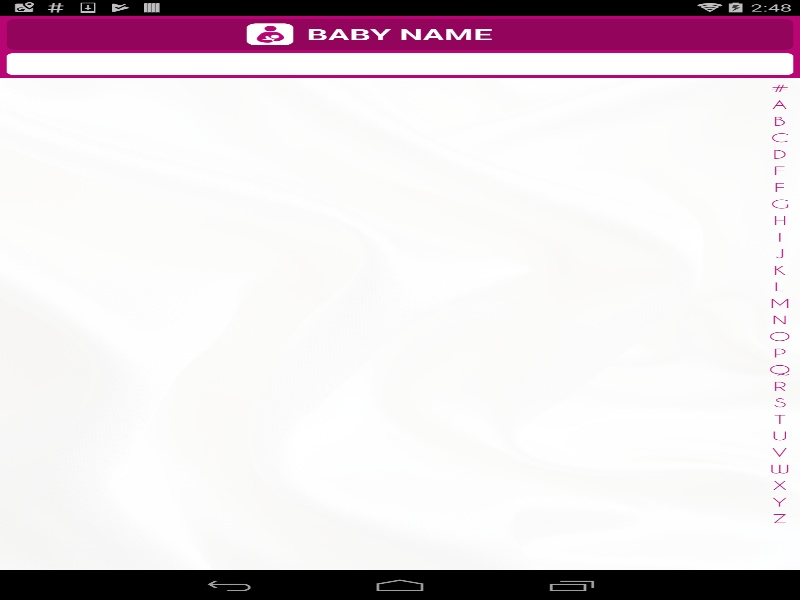Input: (6, 53, 793, 75)
